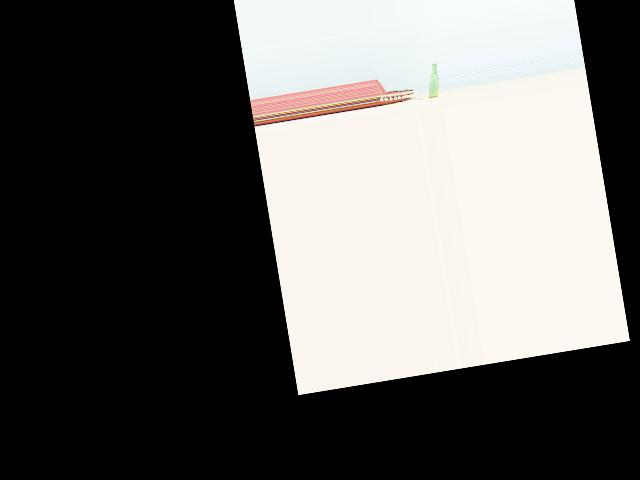beer: (423, 62, 441, 98)
